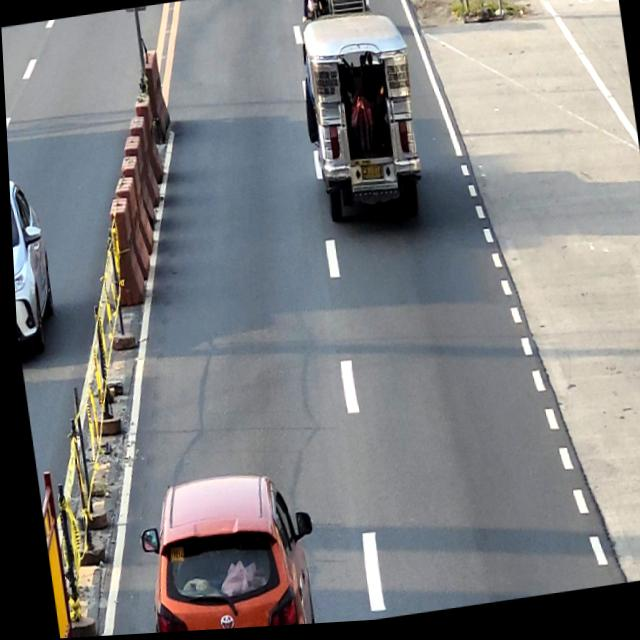Car: (128, 468, 319, 635), (7, 173, 56, 357)
Jeep: (292, 13, 426, 236)
License-Plate: (358, 169, 382, 186), (308, 0, 319, 1)
Tricycle: (301, 0, 370, 26)
